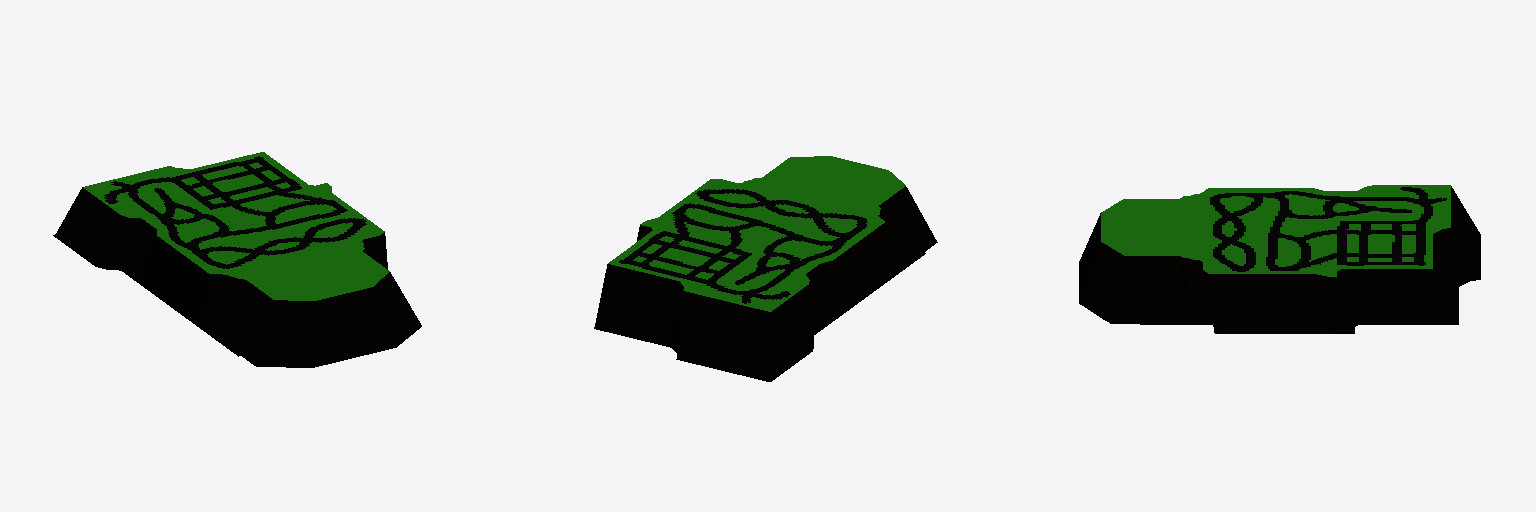
Rendered from World.obj.
3 views of the same model, side by side, from view 1: azimuth 30°, elevation 25°; view 2: azimuth 150°, elevation 25°; view 3: azimuth 270°, elevation 25° (orthographic).
Visible parts, largest first — view 1: Cube; view 2: Cube; view 3: Cube.
Part boxes in pixels (x1,y1,x2,y2): Cube: (53, 152, 421, 367); Cube: (594, 156, 937, 381); Cube: (1079, 185, 1480, 333).
Size of the model in its own units: 61.15 by 15.83 by 103.